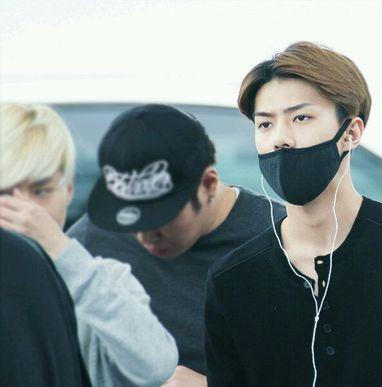NONE: (118, 186, 211, 260), (1, 174, 65, 253)
WRONG: (252, 100, 352, 200)
